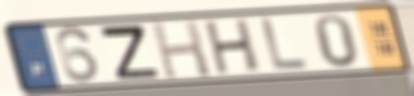0: (310, 13, 362, 68)
6: (55, 25, 101, 86)
H: (148, 19, 215, 81), (203, 17, 262, 77)
L: (258, 16, 310, 72)
Z: (95, 24, 163, 81)
